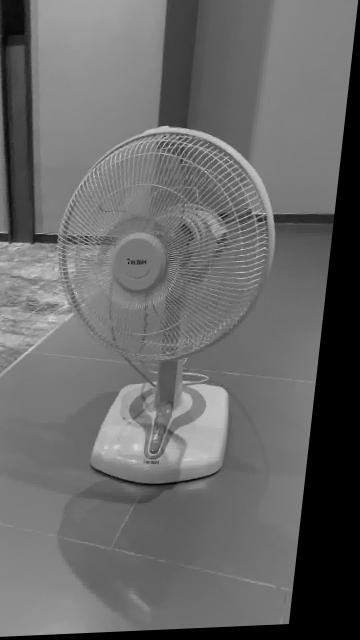Fan: (64, 128, 281, 489)
